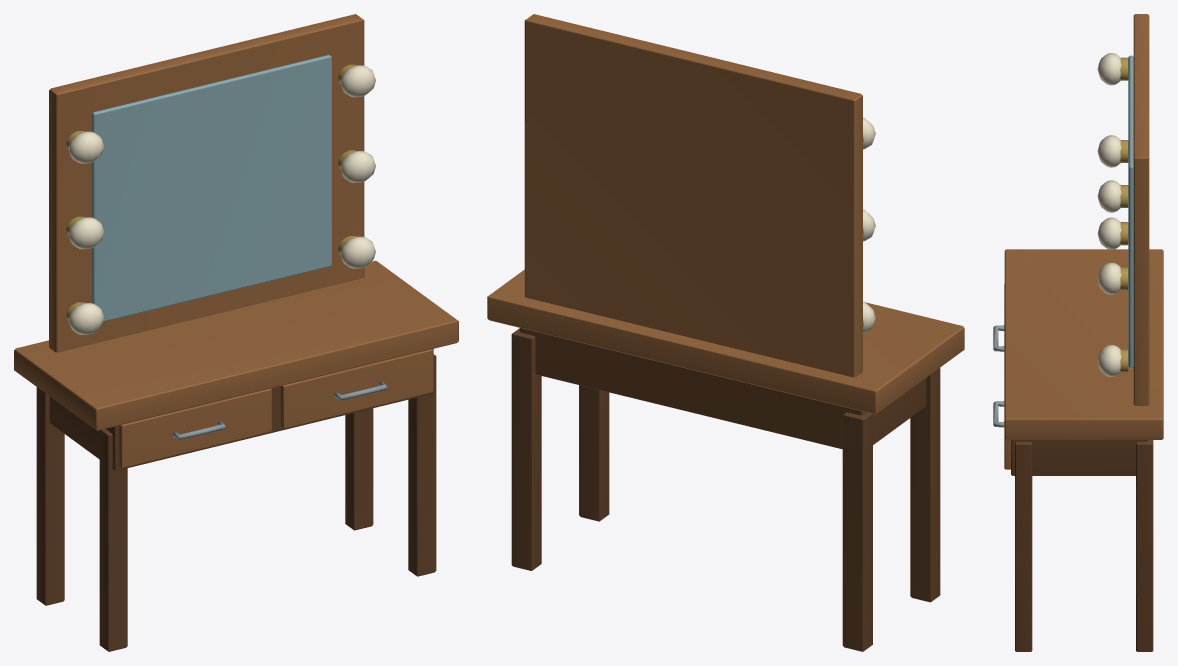
Rendered from S039_bulb_vanity_rebuilt.glb.
3 views of the same model, side by side, from view 1: azimuth 30°, elevation 25°; view 2: azimuth 150°, elevation 25°; view 3: azimuth 270°, elevation 25° (orthographic). The views are drawn at different scales.
Parts seen in each view (by area): view 1: Oiled_warm_oak, Reflective_muted_mirror, Oak_end_and_edge, Warm_ivory, Brushed_steel; view 2: Oiled_warm_oak, Oak_end_and_edge, Warm_ivory; view 3: Oiled_warm_oak, Oak_end_and_edge, Warm_ivory, Reflective_muted_mirror, Satin_brass, Brushed_steel.
Part boxes in pixels (x1=…): Oiled_warm_oak: x1=14, y1=14, x2=458, y2=467; Reflective_muted_mirror: x1=92, y1=54, x2=331, y2=321; Oak_end_and_edge: x1=36, y1=349, x2=436, y2=651; Warm_ivory: x1=68, y1=65, x2=375, y2=334; Brushed_steel: x1=172, y1=381, x2=387, y2=440; Oiled_warm_oak: x1=487, y1=14, x2=964, y2=414; Oak_end_and_edge: x1=511, y1=328, x2=940, y2=651; Warm_ivory: x1=863, y1=117, x2=875, y2=333; Oiled_warm_oak: x1=1004, y1=14, x2=1163, y2=469; Oak_end_and_edge: x1=1011, y1=440, x2=1153, y2=651; Warm_ivory: x1=1097, y1=53, x2=1121, y2=376; Reflective_muted_mirror: x1=1128, y1=55, x2=1133, y2=368; Satin_brass: x1=1120, y1=57, x2=1128, y2=372; Brushed_steel: x1=993, y1=325, x2=1004, y2=427.
Bounding box in the file's own units: 1.3 × 1.75 × 0.55.
